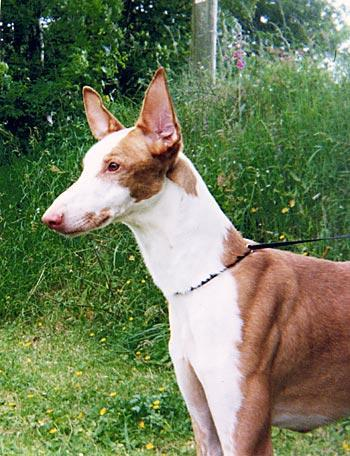Ibizan_hound: (37, 66, 347, 454)
